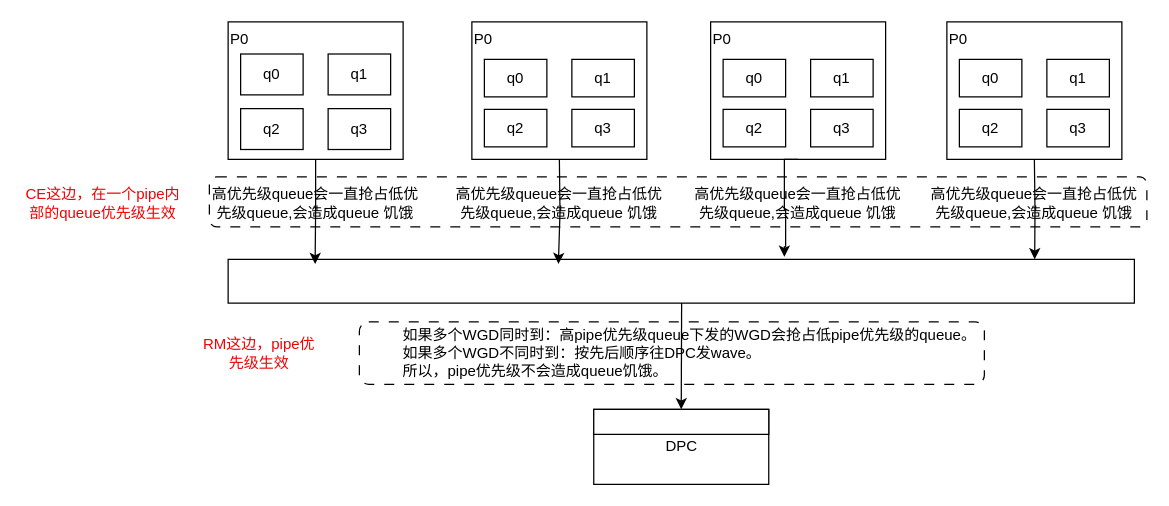
Image size: 1169x506. Some labels were removed from this diagram. The shapes that lost their labels are listed below. From the top down, each one's centre as x and y in pixels, then its label:
At pixel 680 280: "CE 取包".
At pixel 680 421: "RM".
